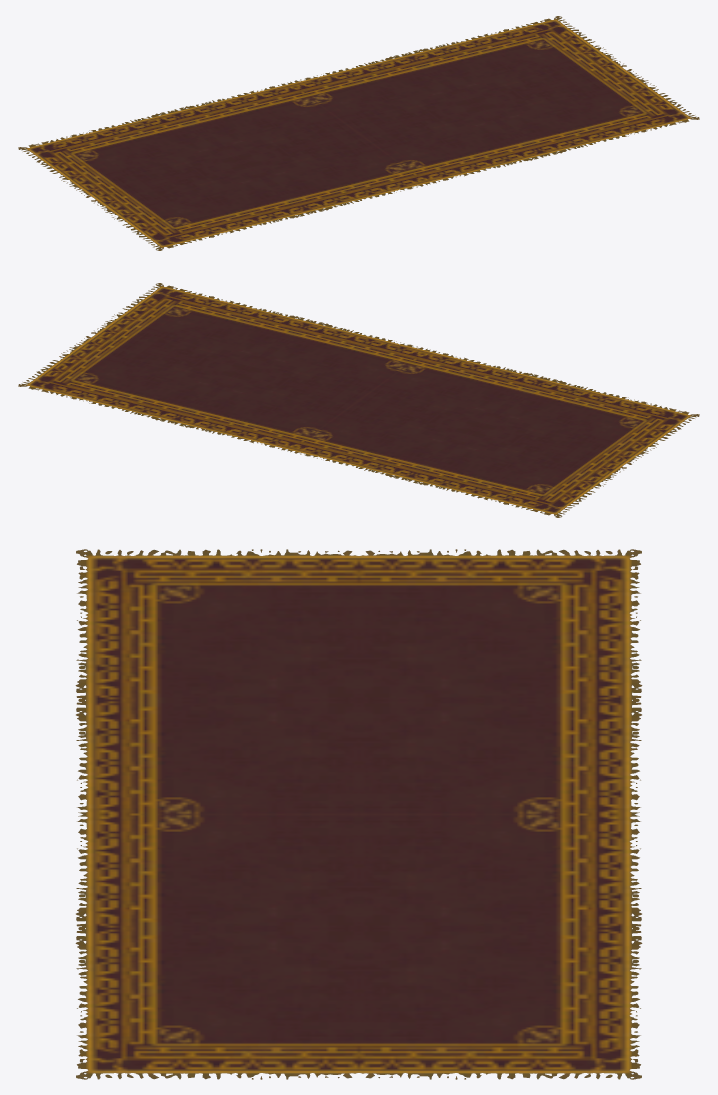
File: Carpet_3E.fbx
The picture shows the model from 3 angles, top to bottom: view 1: azimuth 30°, elevation 25°; view 2: azimuth 150°, elevation 25°; view 3: azimuth 270°, elevation 25°; orthographic projection. The views are drawn at different scales.
Visible parts, largest first — view 1: pPlane98; view 2: pPlane98; view 3: pPlane98.
Boxes of the visible parts, x1,y1,x2,y2 form: pPlane98: (18,16,699,250); pPlane98: (18,283,699,517); pPlane98: (75,549,642,1079).
Bounding box in the file's own units: 12.25 × 6.22e-16 × 5.6.
